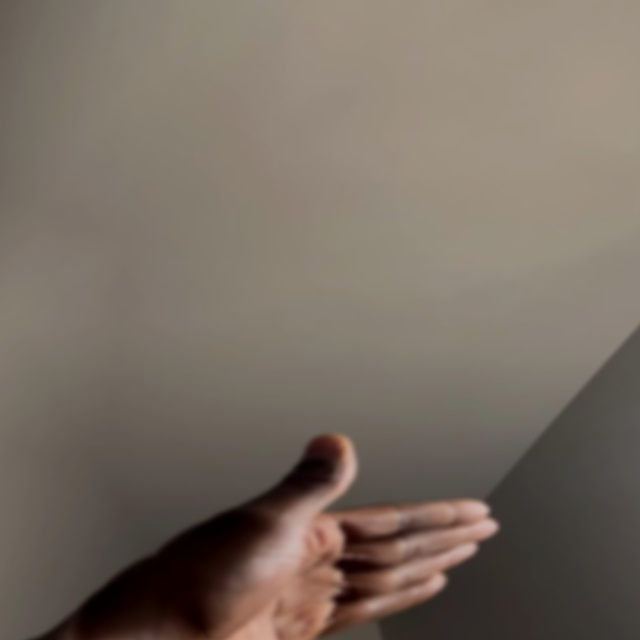Paper: (0, 0, 225, 184)
